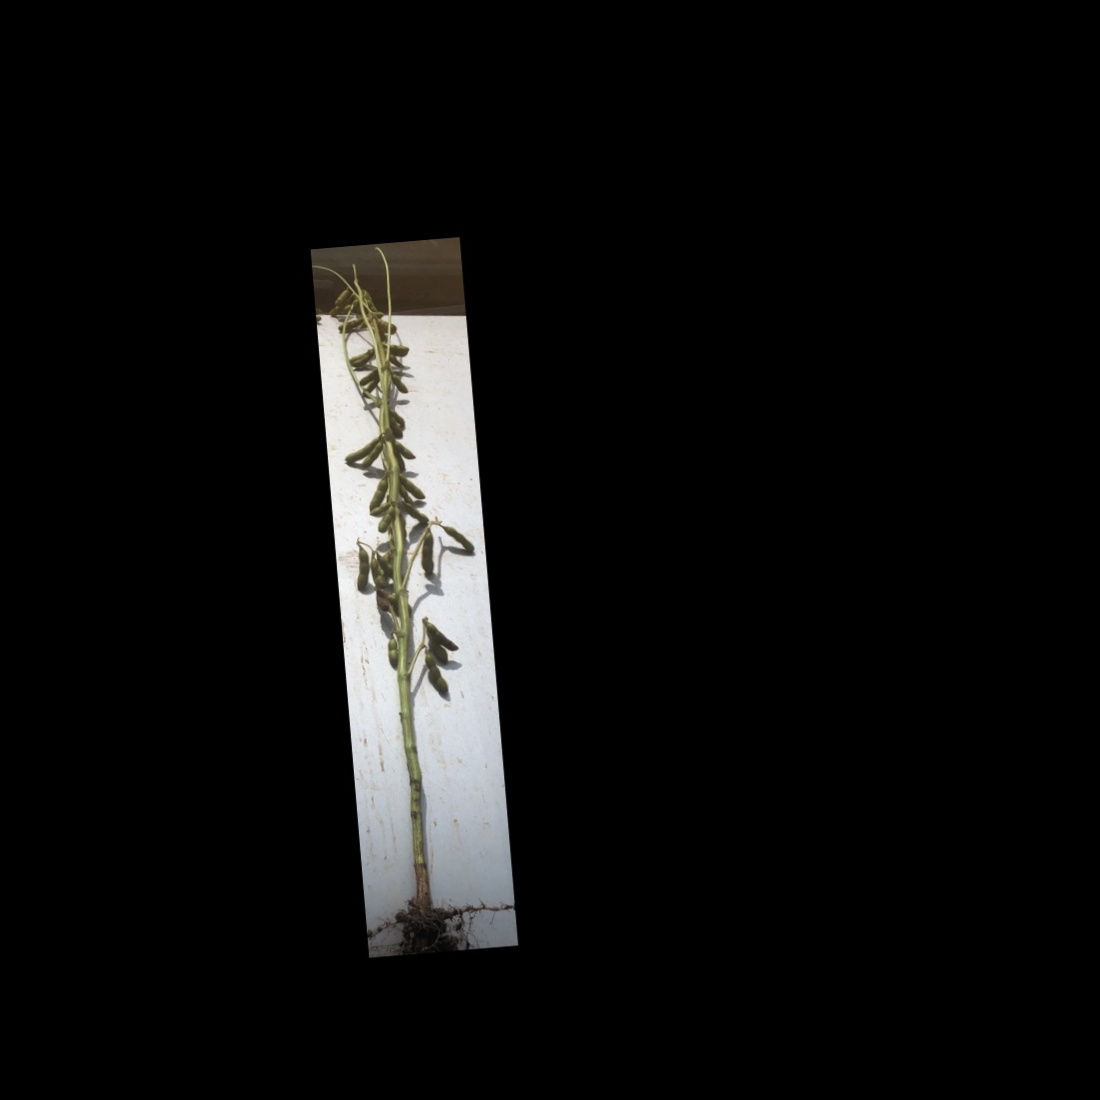pod: (437, 522, 475, 556), (425, 648, 448, 698), (350, 547, 373, 594), (417, 527, 436, 575), (400, 501, 429, 526), (375, 507, 397, 536), (388, 371, 410, 397), (384, 635, 400, 668), (388, 408, 407, 427), (331, 286, 349, 305), (398, 484, 412, 506)
soy: (312, 250, 507, 935)
